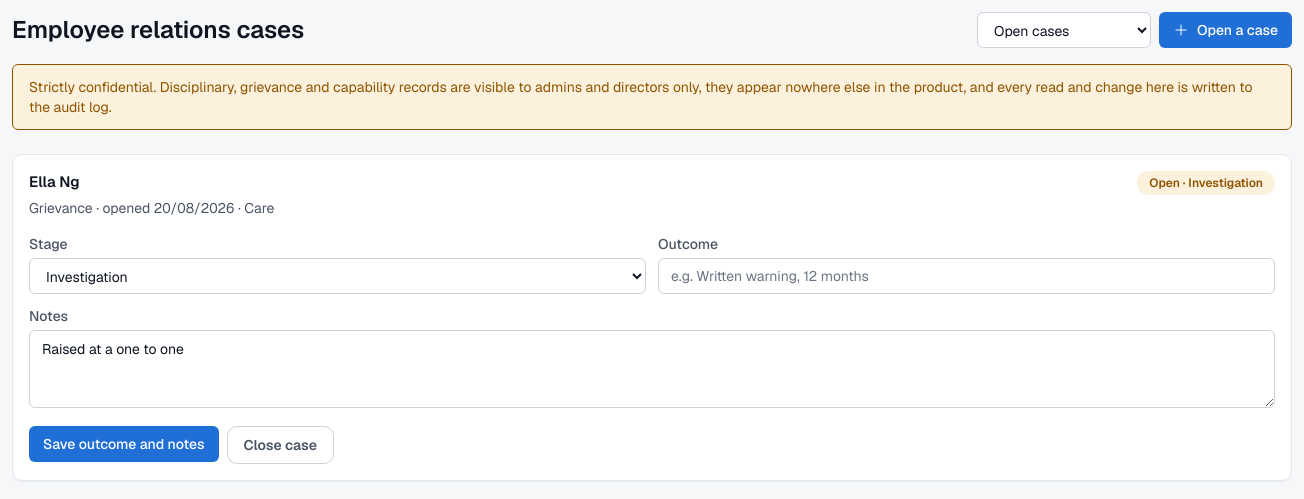
Test: Cases page › records an outcome and closes the case
The width and height of the screenshot is (1304, 499).
Expected: the text "Ella Ng" is shown, x1=29 y1=172 x2=80 y2=191
Type "Grievance not upheld" into the field labelled "Outcome". click: (966, 276)
box: x1=658 y1=258 x2=1275 y2=294
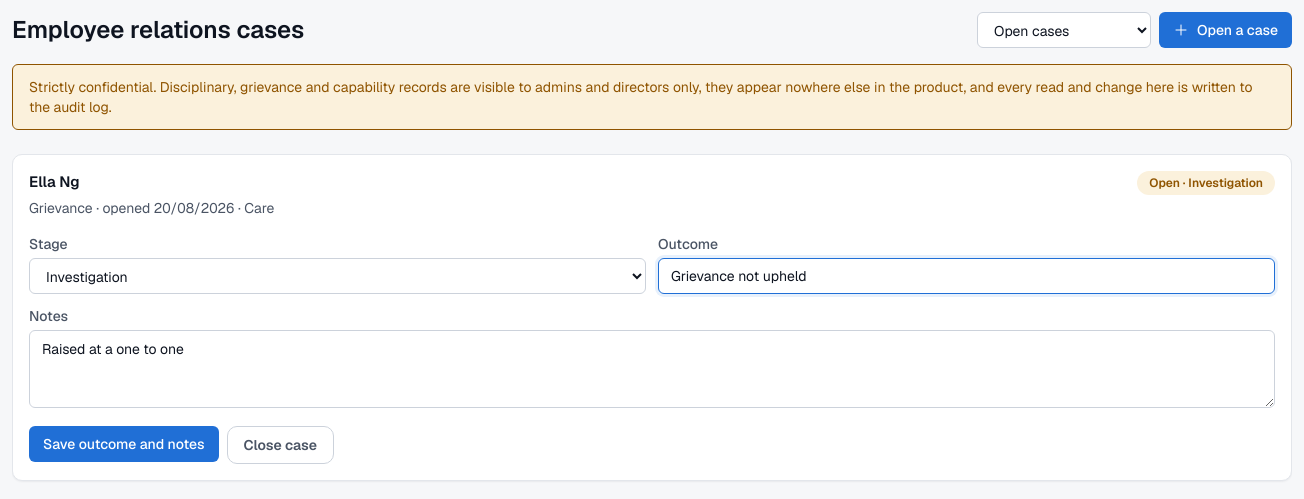
Click the button "Close case". click: (280, 445)
box: x1=226 y1=426 x2=334 y2=464
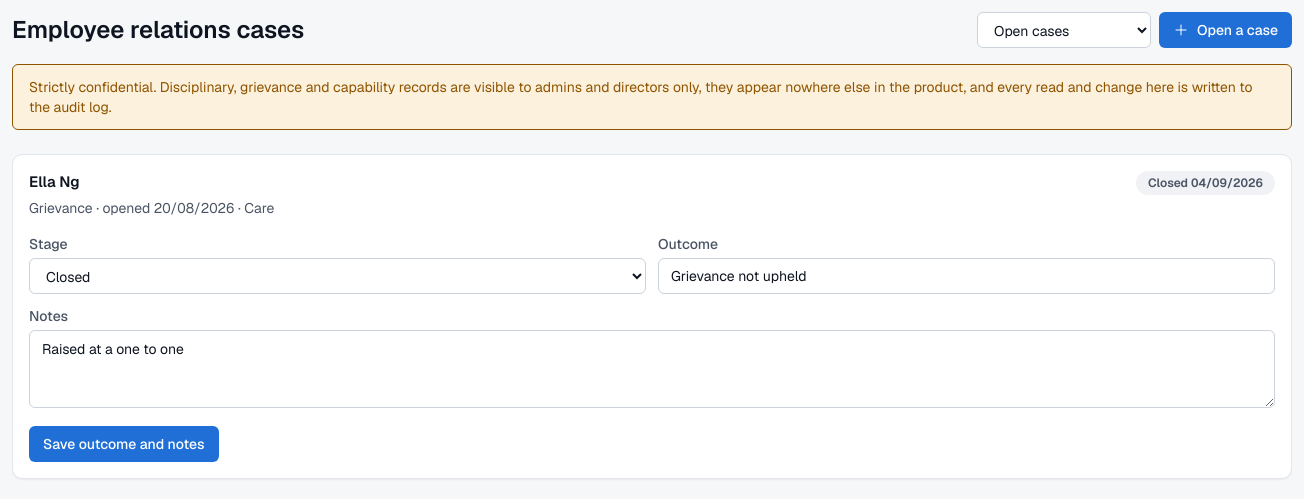
Result: the text "Closed 04/09/2026" is shown at x1=1136 y1=171 x2=1275 y2=195
